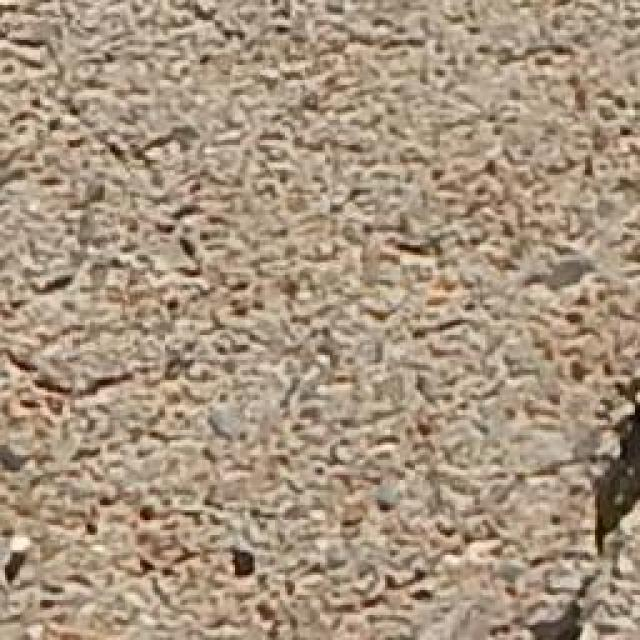concrete-crack: (488, 362, 640, 640)
